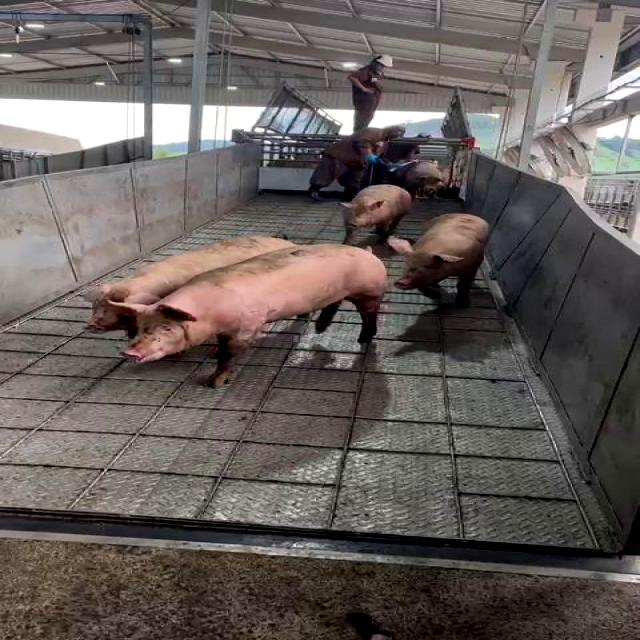pig: (114, 245, 387, 385), (85, 235, 294, 337), (391, 213, 489, 305), (343, 185, 411, 243)
